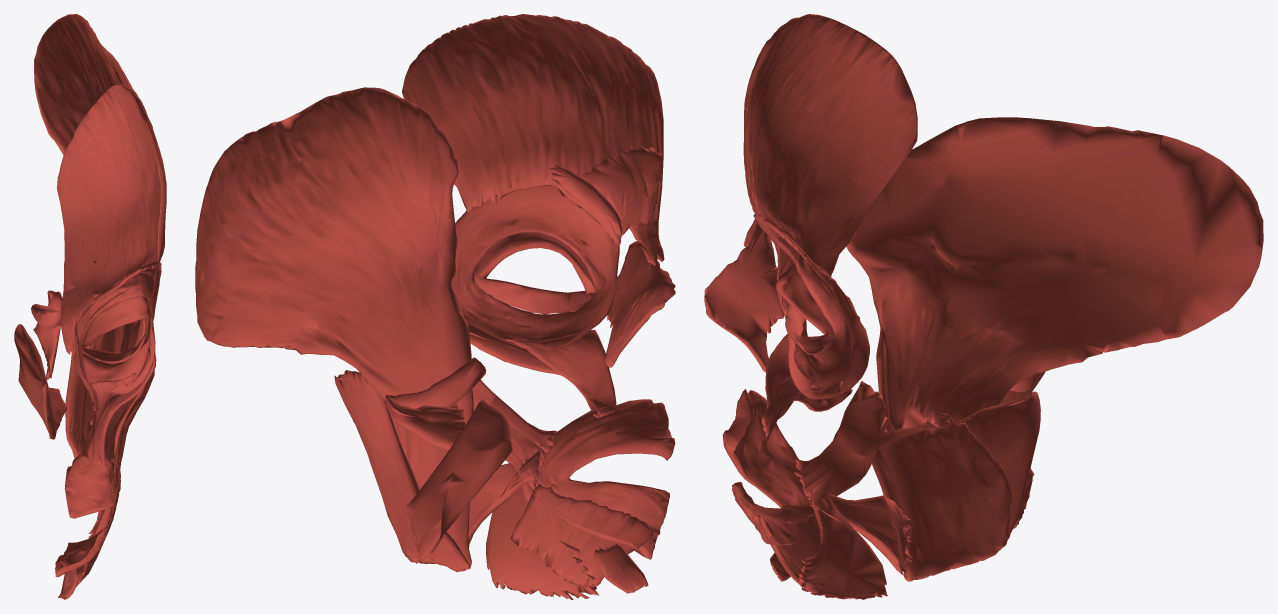
Rendered from facem.glb.
3 renders of one model, left to right at view 1: azimuth 30°, elevation 25°; view 2: azimuth 150°, elevation 25°; view 3: azimuth 270°, elevation 25°, orthographic. The views are drawn at different scales.
Visible parts, largest first — view 1: left frontalis, left temporalis, left orbital part of orbicularis oculi, left orbicularis oris, left medial pterygoid, left palpebral part of orbicularis oculi, left deep part of masseter, left procerus, left zygomaticus minor, left zygomaticus major, left levator labii superioris, left inferior head of lateral pterygoid (+6 smaller); view 2: left temporalis, left frontalis, left orbital part of orbicularis oculi, left orbicularis oris, left depressor labii inferioris, left medial pterygoid, left deep part of masseter, left depressor anguli oris, left palpebral part of orbicularis oculi, left nasalis, left procerus, left levator labii superioris (+8 smaller); view 3: left temporalis, left frontalis, left superficial part of masseter, left orbital part of orbicularis oculi, left orbicularis oris, left nasalis, left zygomaticus major, left depressor anguli oris, left deep part of masseter, left risorius, left palpebral part of orbicularis oculi, left depressor labii inferioris (+2 smaller).
Part boxes in pixels (<box>): left frontalis: <box>57,84,166,316</box>; left temporalis: <box>34,14,157,352</box>; left orbital part of orbicularis oculi: <box>75,262,161,394</box>; left orbicularis oris: <box>55,454,120,577</box>; left medial pterygoid: <box>14,324,67,439</box>; left palpebral part of orbicularis oculi: <box>83,296,152,363</box>; left deep part of masseter: <box>65,321,136,458</box>; left procerus: <box>60,258,108,356</box>; left zygomaticus minor: <box>91,344,156,466</box>; left zygomaticus major: <box>112,369,154,494</box>; left levator labii superioris: <box>87,373,135,465</box>; left inferior head of lateral pterygoid: <box>33,290,61,379</box>; left temporalis: <box>195,87,473,435</box>; left frontalis: <box>402,14,663,236</box>; left orbital part of orbicularis oculi: <box>451,174,619,348</box>; left orbicularis oris: <box>526,399,675,559</box>; left depressor labii inferioris: <box>510,483,653,587</box>; left medial pterygoid: <box>406,399,512,557</box>; left deep part of masseter: <box>334,370,469,571</box>; left depressor anguli oris: <box>486,449,599,599</box>; left palpebral part of orbicularis oculi: <box>474,230,595,314</box>; left nasalis: <box>604,240,675,367</box>; left procerus: <box>581,146,664,265</box>; left levator labii superioris: <box>505,329,616,416</box>; left temporalis: <box>846,117,1263,431</box>; left frontalis: <box>743,14,917,276</box>; left superficial part of masseter: <box>869,413,1012,581</box>; left orbital part of orbicularis oculi: <box>753,213,869,399</box>; left orbicularis oris: <box>723,389,818,545</box>; left nasalis: <box>704,230,784,372</box>; left zygomaticus major: <box>794,381,888,530</box>; left depressor anguli oris: <box>799,487,887,599</box>; left deep part of masseter: <box>955,391,1040,540</box>; left risorius: <box>811,490,912,577</box>; left palpebral part of orbicularis oculi: <box>775,259,834,354</box>; left depressor labii inferioris: <box>758,514,823,588</box>.
Size of the model in its own units: 0.0768 by 0.1764 by 0.1506.
